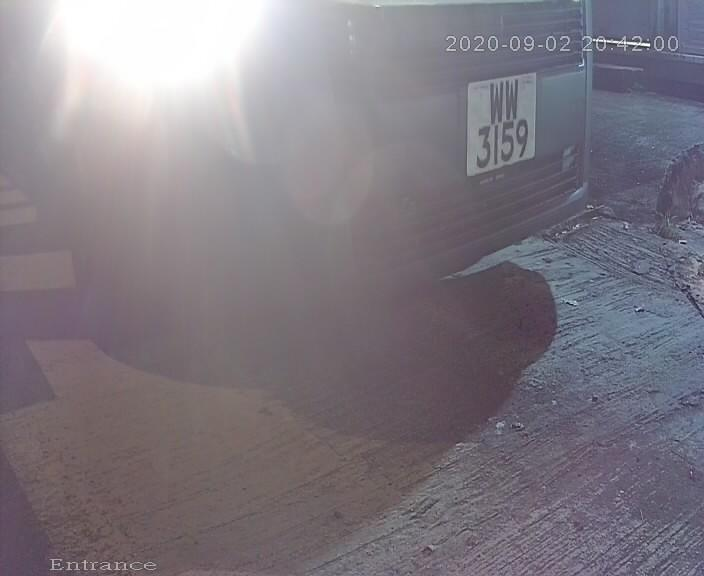License Plate: (453, 49, 541, 193)
